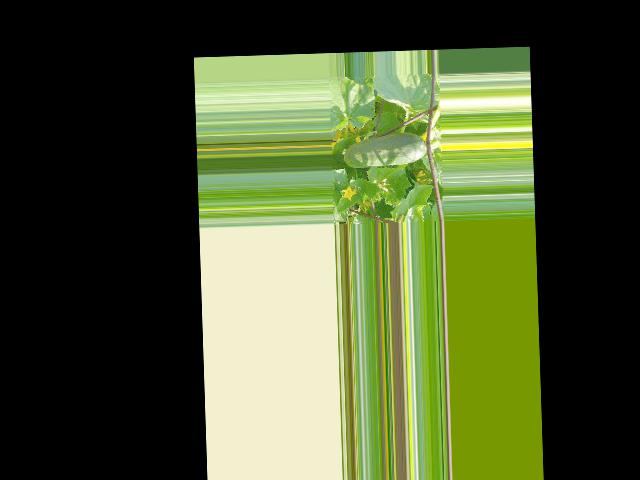cucumber: (342, 130, 426, 168)
